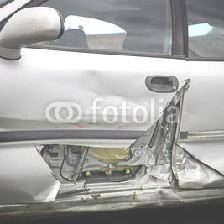door_dent: (21, 83, 198, 212)
